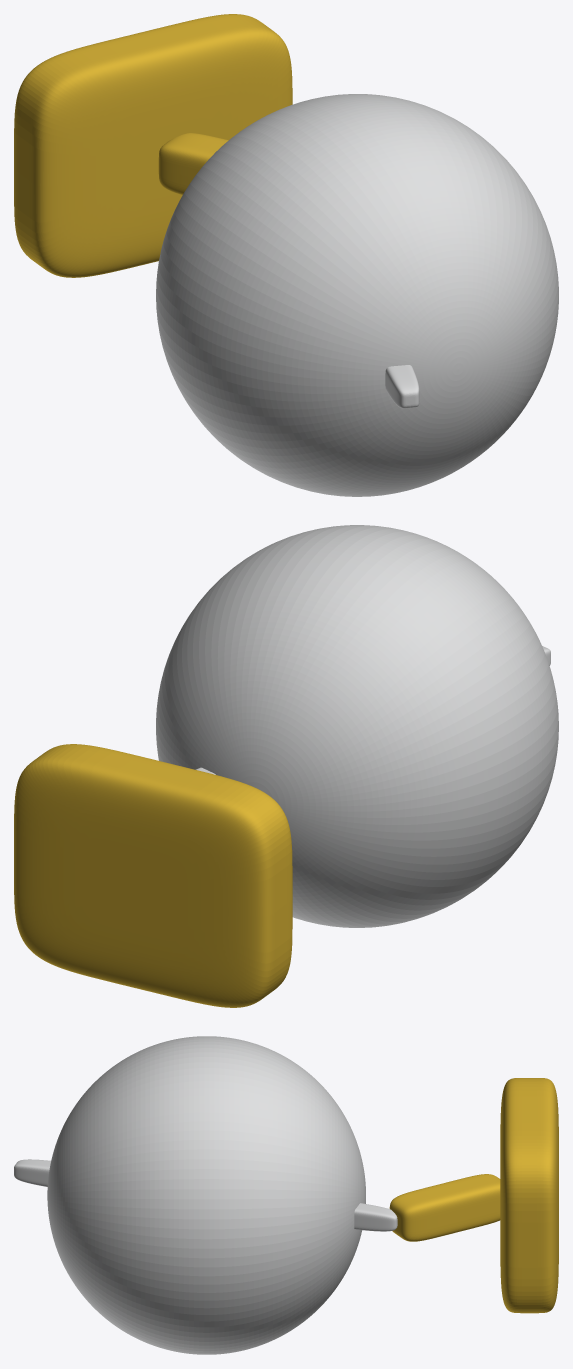
The model's file is tabletop_world_globe_sq.glb.
3 renders of one model, top to bottom at view 1: azimuth 30°, elevation 25°; view 2: azimuth 150°, elevation 25°; view 3: azimuth 270°, elevation 25°, orthographic. The views are drawn at different scales.
Visible parts, largest first — view 1: superquadric_0, superquadric_3, superquadric_2, superquadric_1; view 2: superquadric_0, superquadric_3; view 3: superquadric_0, superquadric_3, superquadric_2, superquadric_1.
Boxes of the visible parts, <box> form: superquadric_0: <box>156,94,558,496</box>; superquadric_3: <box>14,14,292,277</box>; superquadric_2: <box>158,133,228,194</box>; superquadric_1: <box>385,365,419,408</box>; superquadric_0: <box>156,525,558,927</box>; superquadric_3: <box>14,744,292,1007</box>; superquadric_0: <box>47,1036,365,1354</box>; superquadric_3: <box>500,1078,558,1313</box>; superquadric_2: <box>389,1174,500,1241</box>; superquadric_1: <box>14,1159,397,1231</box>.
Bounding box in the file's own units: 0.5845 × 0.5846 × 1.
